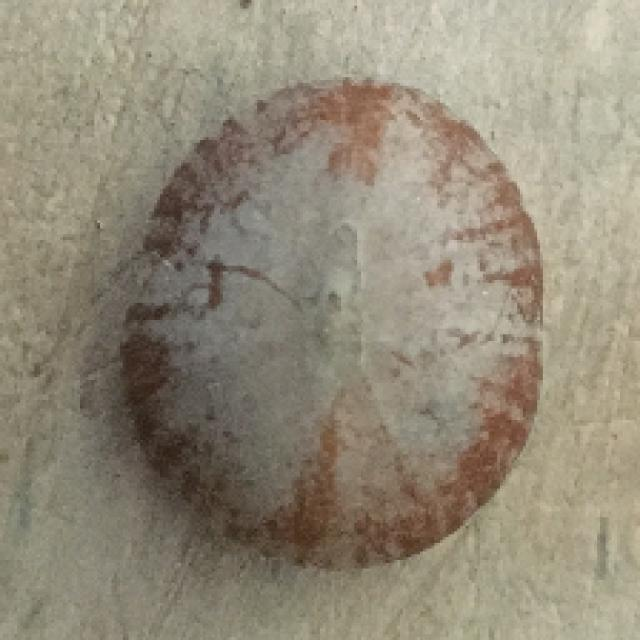QualityHazelnut: (123, 79, 546, 576)
